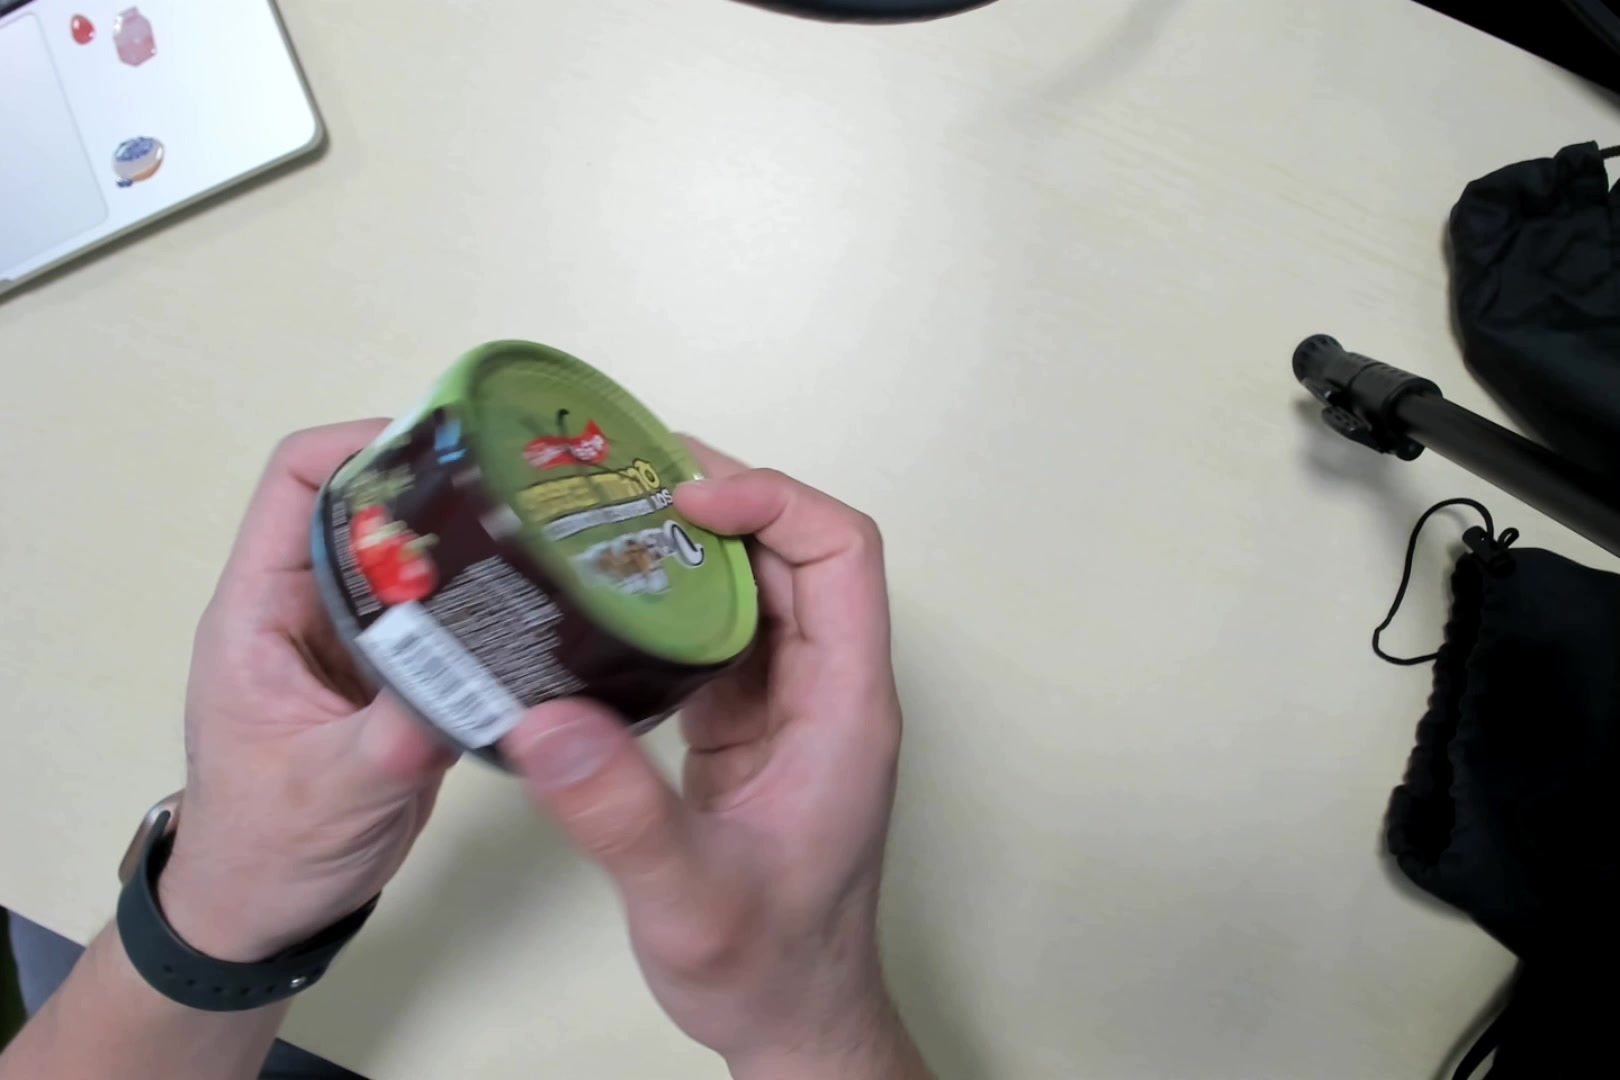CannedPorkLunchronMeat_100-199g_NonHalal_NonHealthy: (316, 347, 757, 802)
